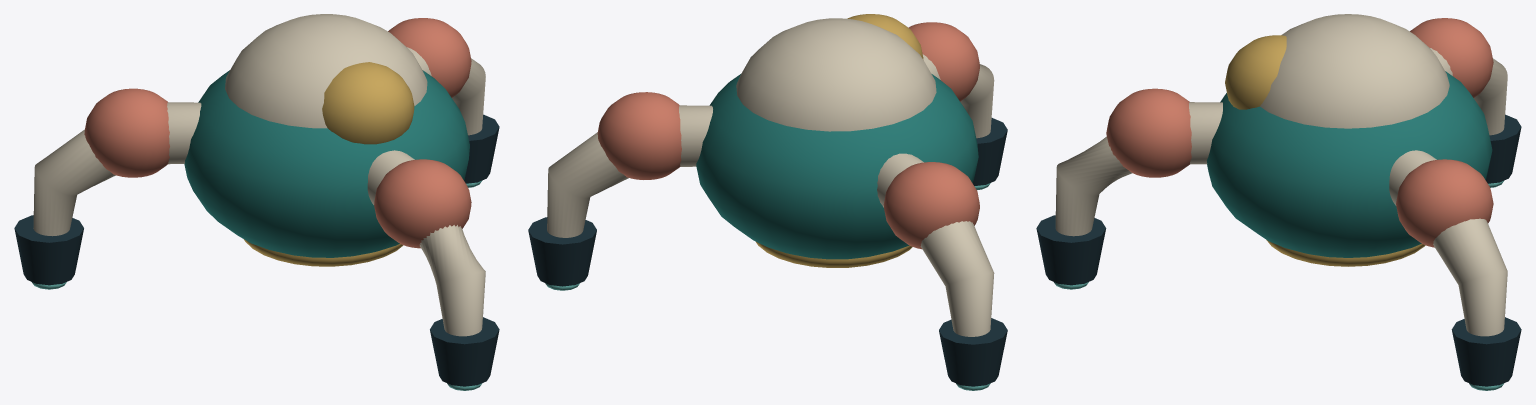
Rendered from alien-harvester.glb.
The picture shows the model from 3 angles, left to right: view 1: azimuth 30°, elevation 25°; view 2: azimuth 150°, elevation 25°; view 3: azimuth 270°, elevation 25°; orthographic projection.
Parts seen in each view (by area): view 1: shell, emission; view 2: shell, emission; view 3: shell, emission.
Boxes of the visible parts, left/top/right/bottom form: shell: left=14, top=14, right=499, bottom=386; emission: left=32, top=62, right=482, bottom=390; shell: left=528, top=18, right=1007, bottom=386; emission: left=545, top=14, right=990, bottom=390; shell: left=1036, top=14, right=1521, bottom=386; emission: left=1054, top=35, right=1503, bottom=390.
Size of the model in its own units: 2.36 by 1.24 by 2.09.
